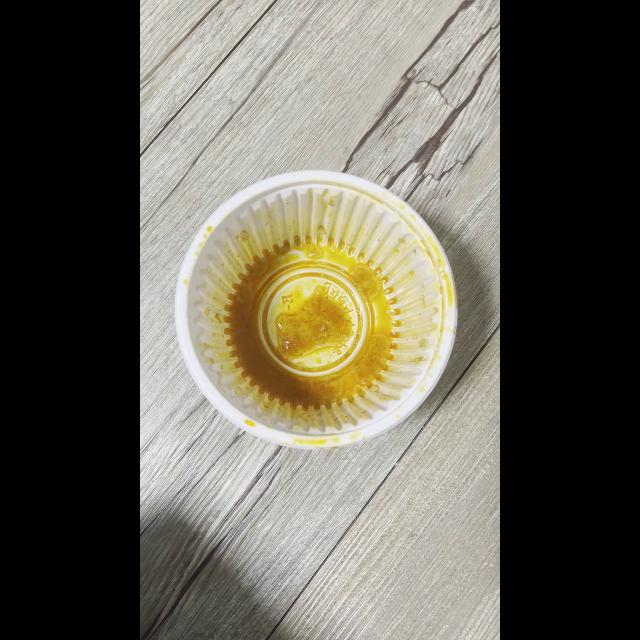dirty: (177, 184, 461, 448)
